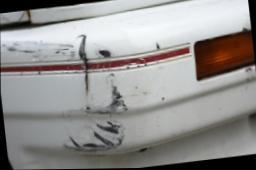Bumper: (0, 26, 216, 170)
